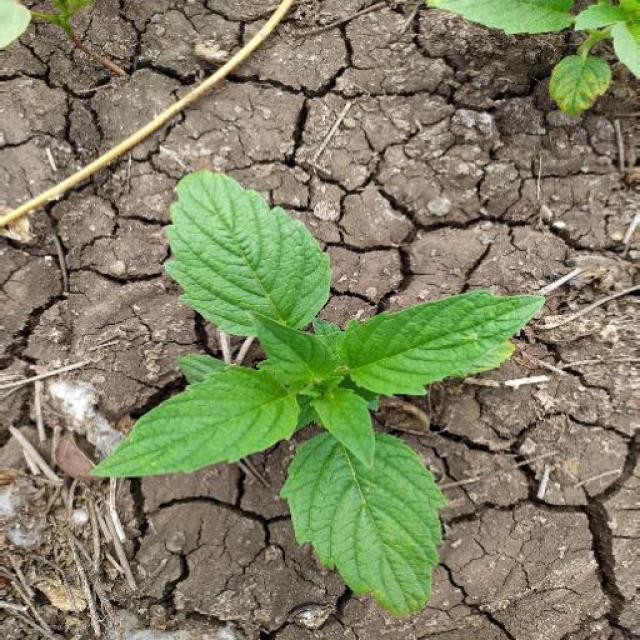crop: (90, 167, 549, 640)
